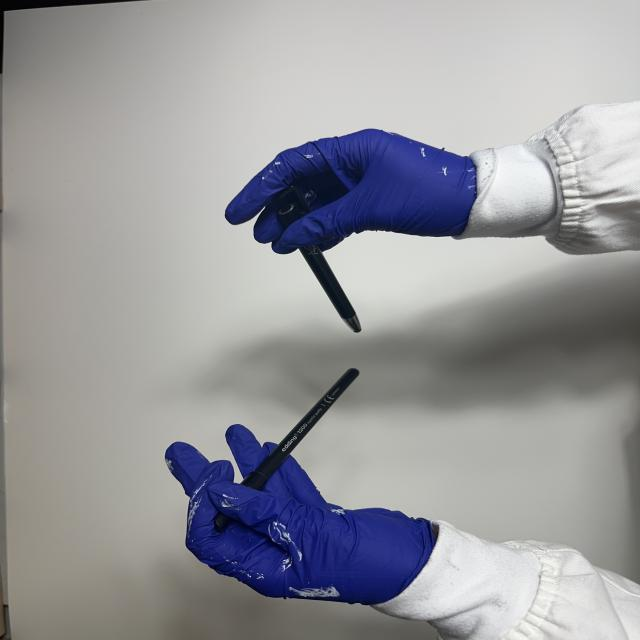gloves_contaminated: (165, 424, 437, 606), (226, 129, 477, 254)
